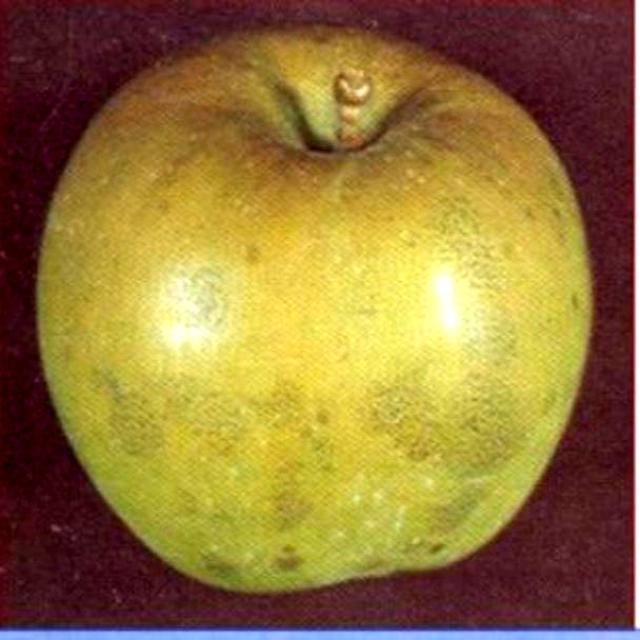BLOTCH: (35, 30, 612, 618)
